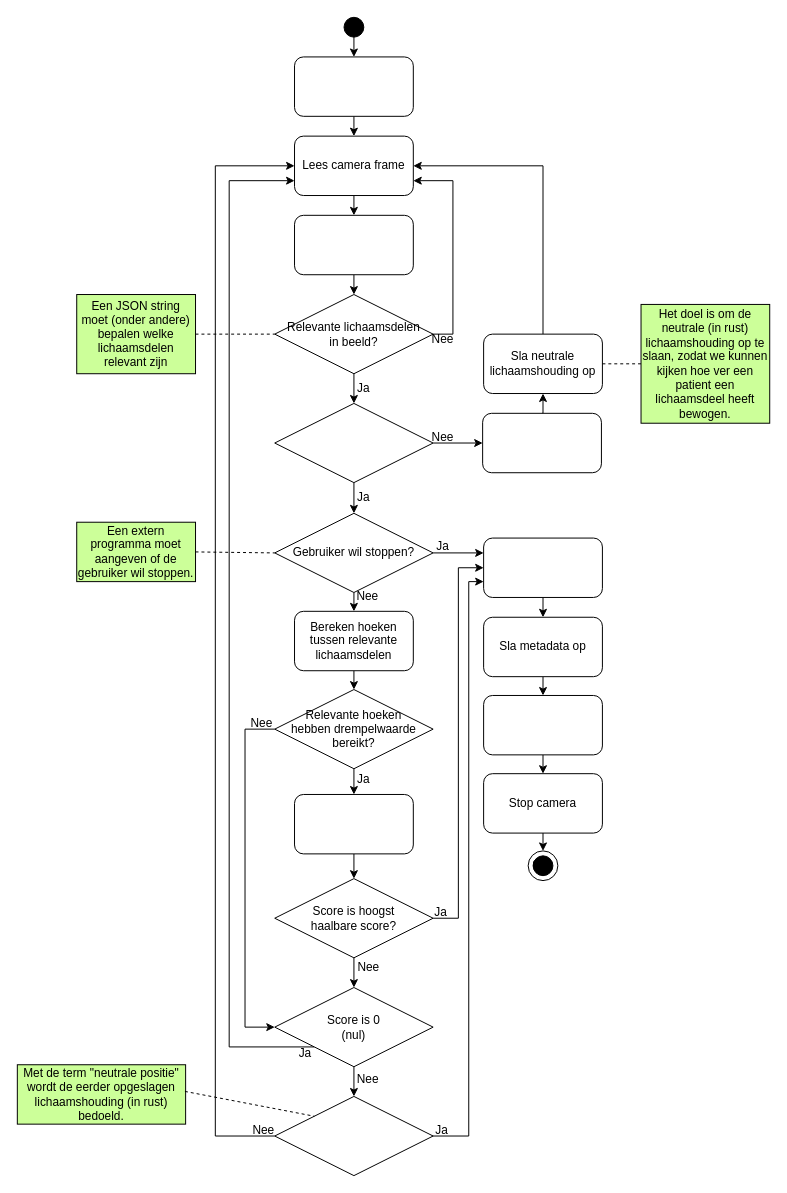
Image size: 787x1193. Some labels were removed from this diagram. The shapes that lost their labels are listed below. From the top down, each one's centre as x and y in pixels, then its label:
At point (353, 86): "Start camera".
At point (353, 244): "Detecteer lichaamshouding (mediapipe)".
At point (353, 442): "Oefening begonnen?".
At point (541, 442): "Start oefening".
At point (542, 567): "Stop oefening".
At point (542, 724): "Sla score op".
At point (353, 823): "Werk score bij".
At point (353, 1135): "Relevante lichaamsdelen bevinden zich in neutrale positie?".
